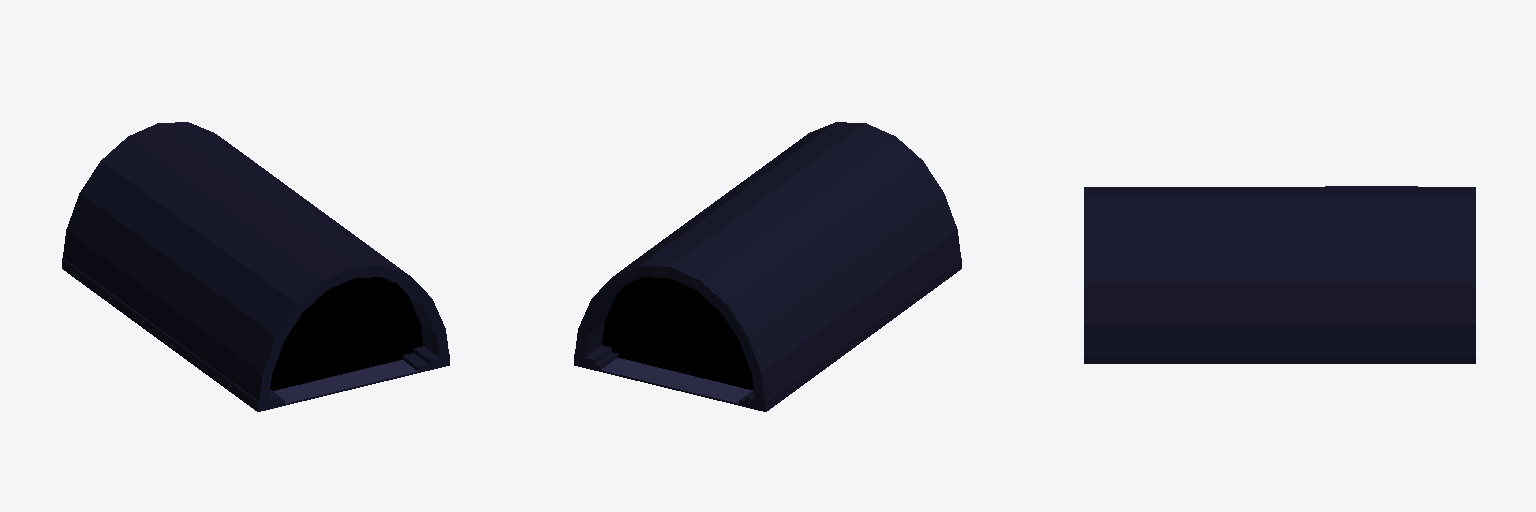
Rendered from tunnel.obj.
The picture shows the model from 3 angles: view 1: azimuth 30°, elevation 25°; view 2: azimuth 150°, elevation 25°; view 3: azimuth 270°, elevation 25°; orthographic projection.
Visible parts, largest first — view 1: tunnel_Road_Mesh.006; view 2: tunnel_Road_Mesh.006; view 3: tunnel_Road_Mesh.006.
Boxes of the visible parts, <box> form: tunnel_Road_Mesh.006: <box>62,122,449,411</box>; tunnel_Road_Mesh.006: <box>574,122,961,411</box>; tunnel_Road_Mesh.006: <box>1084,186,1475,363</box>.
Size of the model in its own units: 45.26 by 27.4 by 79.99.